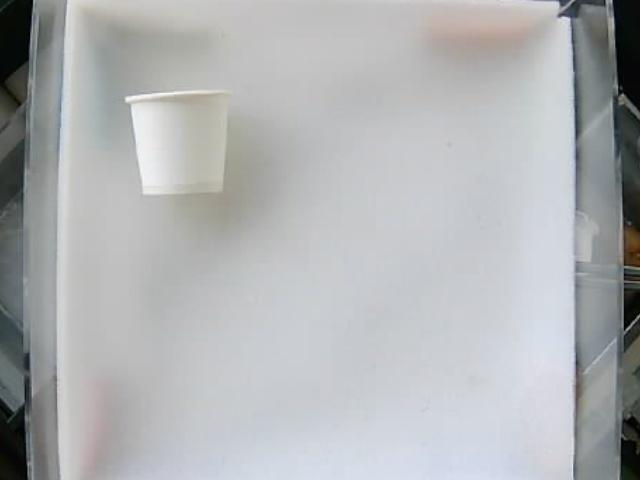Cup: (124, 87, 231, 196)
